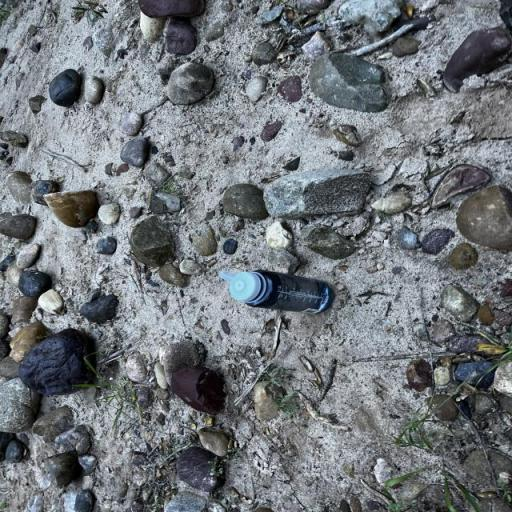bottle: (218, 267, 338, 316)
